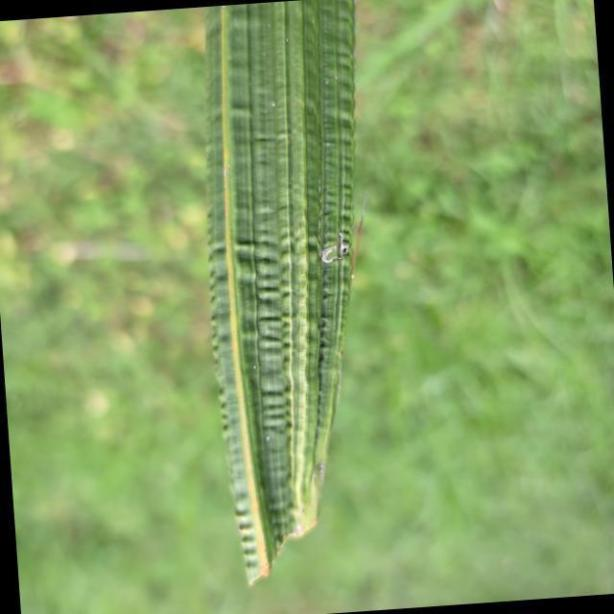Boron: (204, 0, 351, 585)
